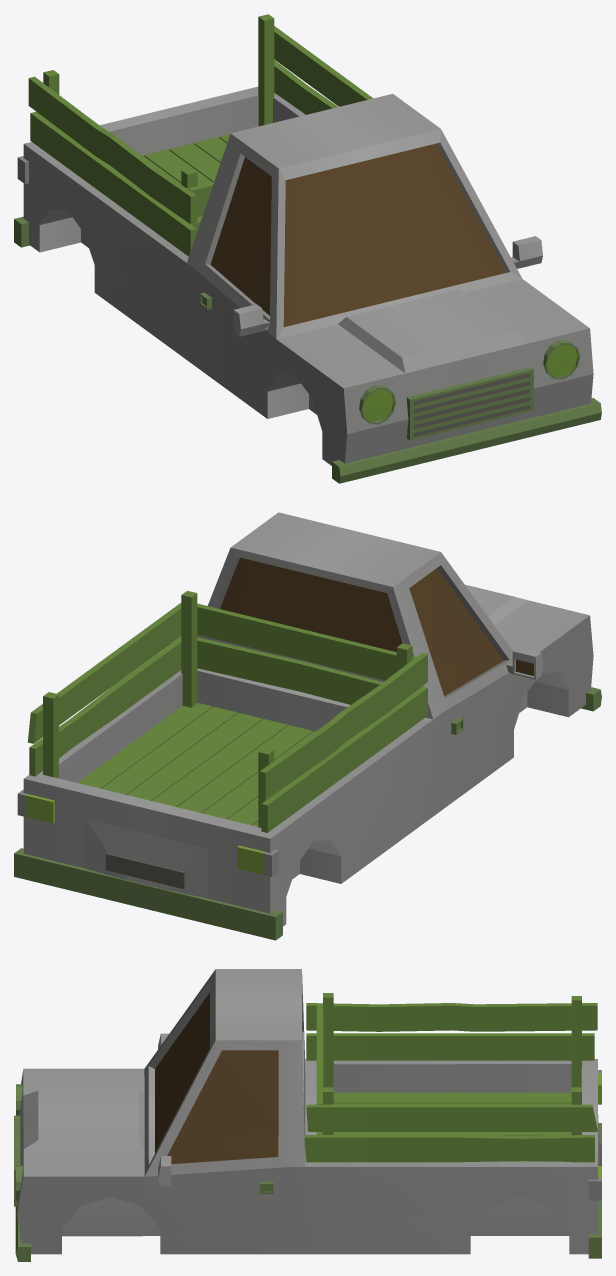
Rendered from Car_07.fbx.
3 renders of one model, top to bottom at view 1: azimuth 30°, elevation 25°; view 2: azimuth 150°, elevation 25°; view 3: azimuth 270°, elevation 25°, orthographic. The views are drawn at different scales.
Visible parts, largest first — view 1: Car_07; view 2: Car_07; view 3: Car_07.
Part boxes in pixels (x1=…): Car_07: x1=14, y1=14, x2=601, y2=483; Car_07: x1=14, y1=512, x2=601, y2=940; Car_07: x1=14, y1=969, x2=601, y2=1261.
Bounding box in the file's own units: 1.96 × 1.38 × 3.67.
